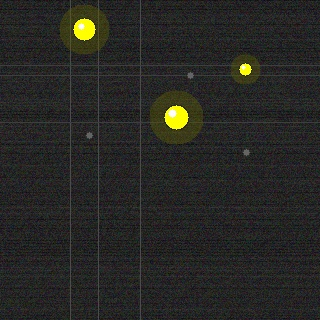yellow_warning: (162, 103, 190, 131), (71, 16, 97, 42), (237, 61, 253, 77)
